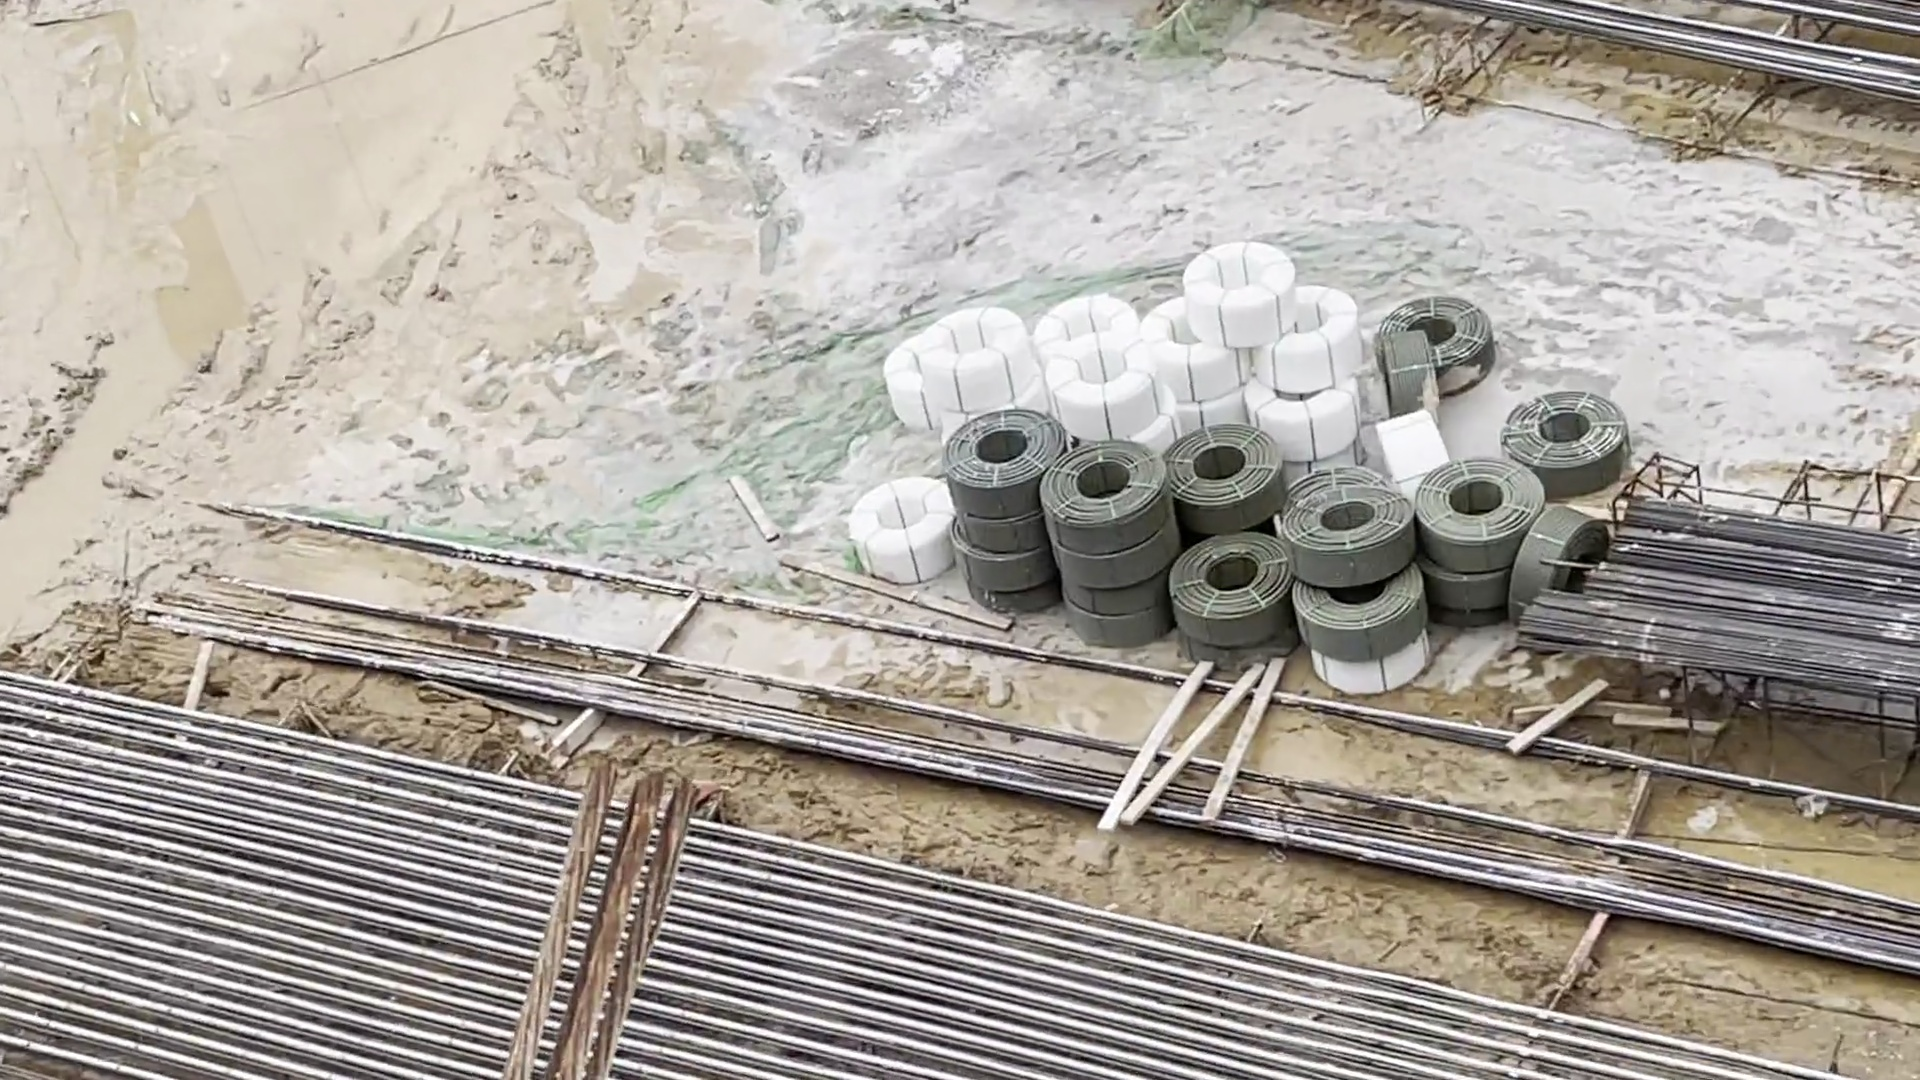rebar: (1, 712, 1282, 1080), (1511, 516, 1920, 684)
